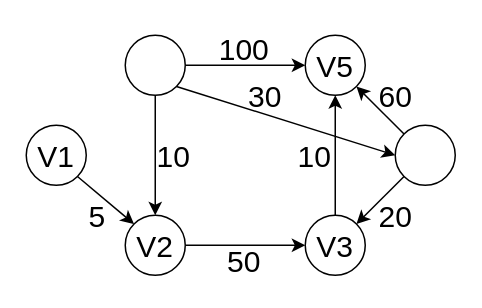
Some shapes in this 482 by 308 pixel diagram are drawn without their labels. Here are the shapes that lost their labels. From the top down, the centre of each, then its label:
(x=154, y=64): V0
(x=424, y=154): V4
